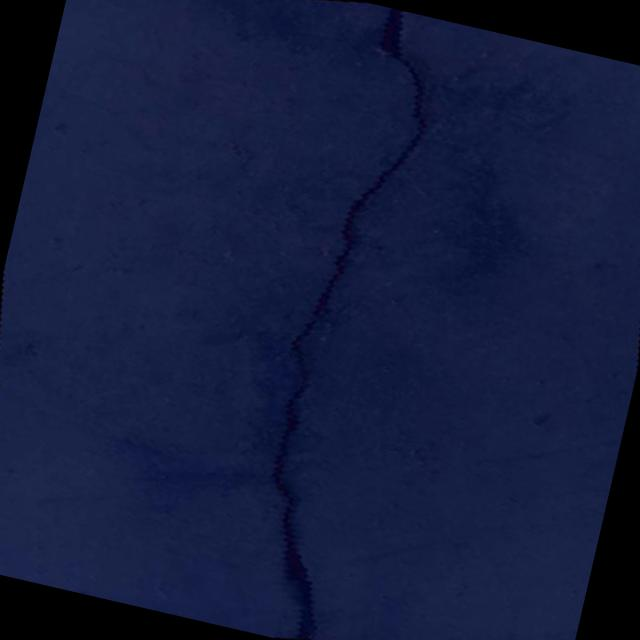crack: (163, 0, 530, 640)
